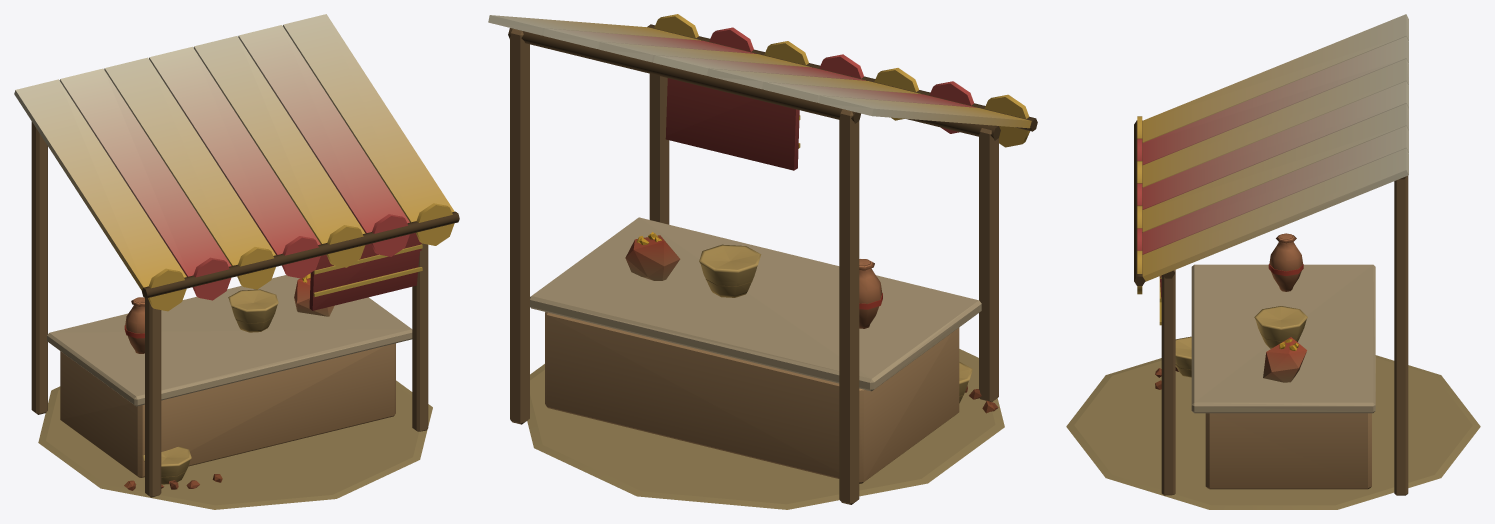
Rendered from bazaar-stall.glb.
3 renders of one model, left to right at view 1: azimuth 30°, elevation 25°; view 2: azimuth 150°, elevation 25°; view 3: azimuth 270°, elevation 25°, orthographic. The views are drawn at different scales.
Visible parts, largest first — view 1: bazaar_stall; view 2: bazaar_stall; view 3: bazaar_stall.
Boxes of the visible parts, x1,y1,x2,y2 form: bazaar_stall: (14,14,459,509); bazaar_stall: (488,14,1037,509); bazaar_stall: (1066,14,1480,509).
Bounding box in the file's own units: 3.09 × 2.89 × 3.24.
